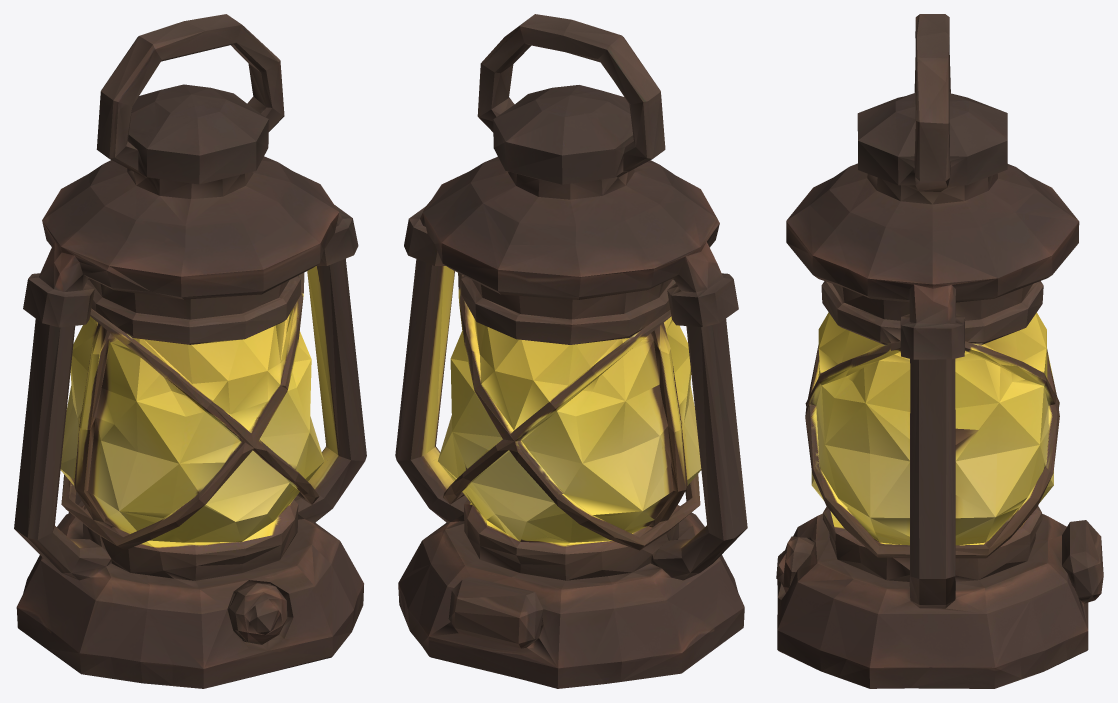
The model's file is lantern.glb.
The picture shows the model from 3 angles, left to right: view 1: azimuth 30°, elevation 25°; view 2: azimuth 150°, elevation 25°; view 3: azimuth 270°, elevation 25°; orthographic projection.
Visible parts, largest first — view 1: Lantern; view 2: Lantern; view 3: Lantern.
Part boxes in pixels (x1,y1,x2,y2): Lantern: [14, 14, 366, 688]; Lantern: [395, 14, 747, 688]; Lantern: [776, 14, 1103, 688].
Bounding box in the file's own units: 0.6007 × 0.9995 × 0.5041.
Materials: 1 (1 with a texture image).
